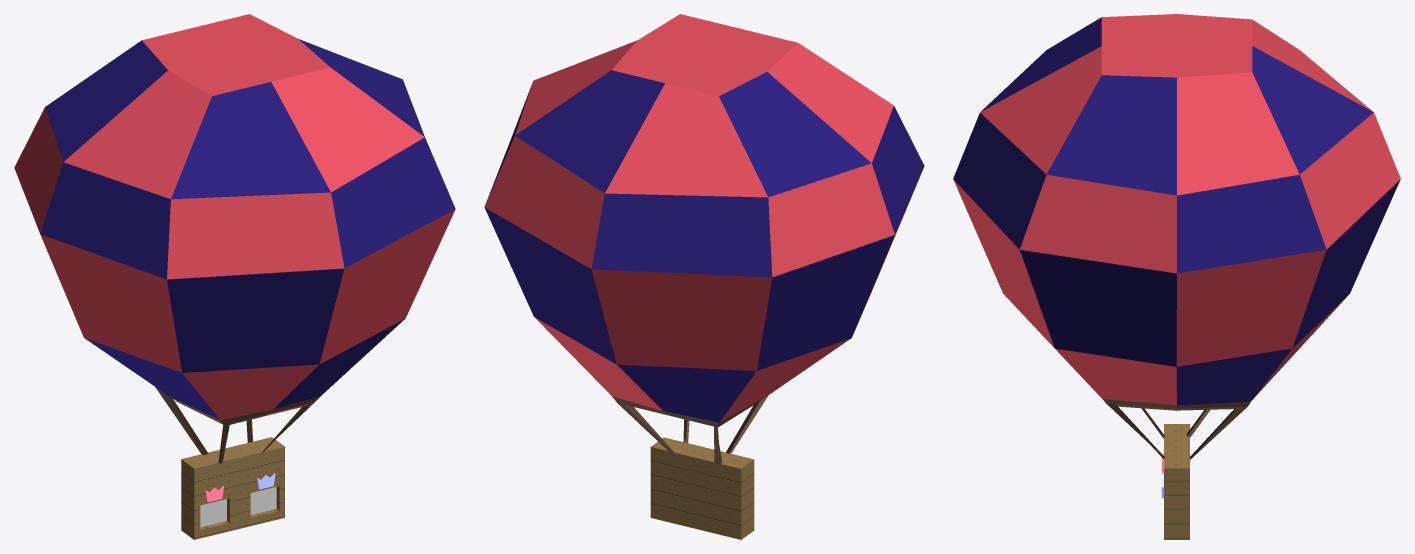
Rendered from scoreboard.glb.
3 views of the same model, side by side, from view 1: azimuth 30°, elevation 25°; view 2: azimuth 150°, elevation 25°; view 3: azimuth 270°, elevation 25° (orthographic).
Visible parts, largest first — view 1: Cube.003, Cube; view 2: Cube.003, Cube; view 3: Cube.003, Cube.
Boxes of the visible parts, x1,y1,x2,y2 form: Cube.003: [14, 14, 455, 463]; Cube: [181, 437, 284, 539]; Cube.003: [484, 14, 924, 464]; Cube: [650, 437, 754, 539]; Cube.003: [953, 14, 1400, 459]; Cube: [1164, 424, 1189, 539].
Bounding box in the file's own units: 8.51 × 9.89 × 8.51.
8 materials, 1 textured.
